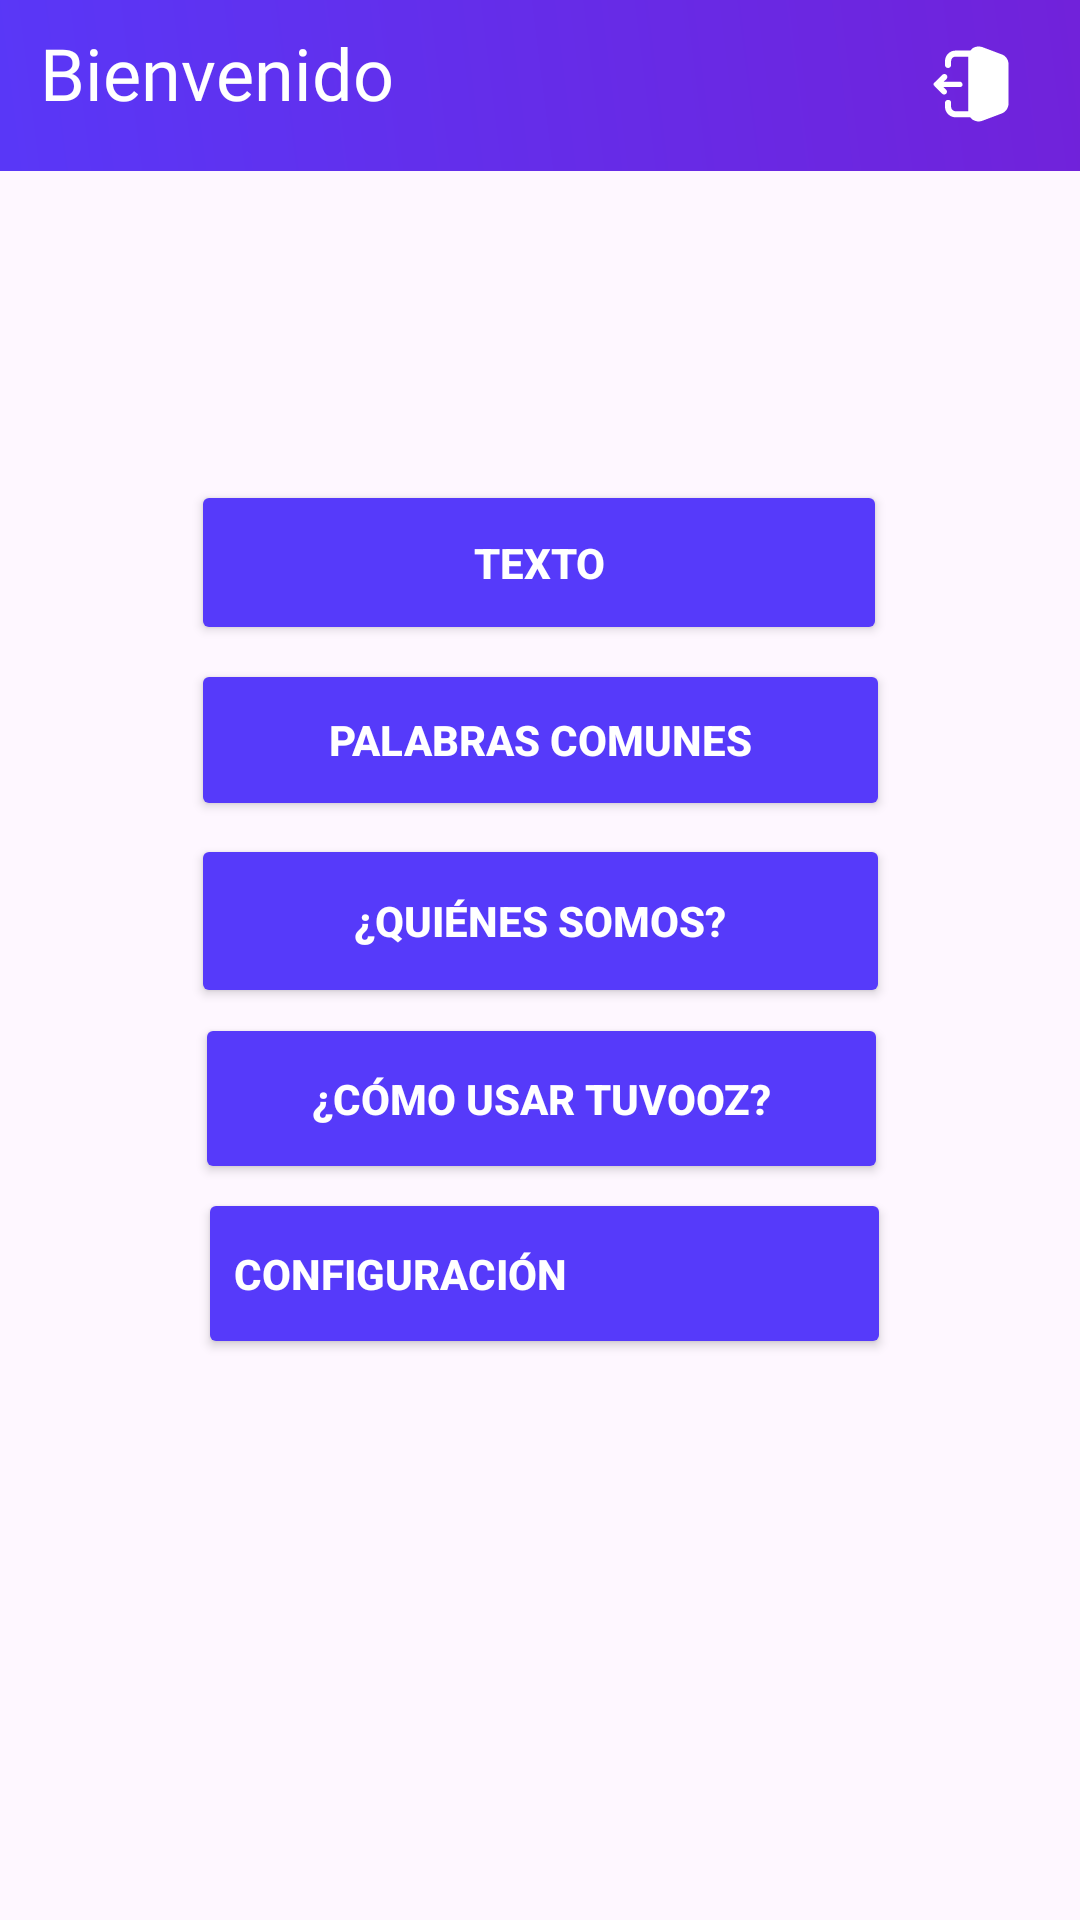

Icons on this 1080px×1920px Android screen, each with its box as BBox(x1, y1, x2, y2):
cerrar sesion: BBox(933, 46, 1009, 122)
